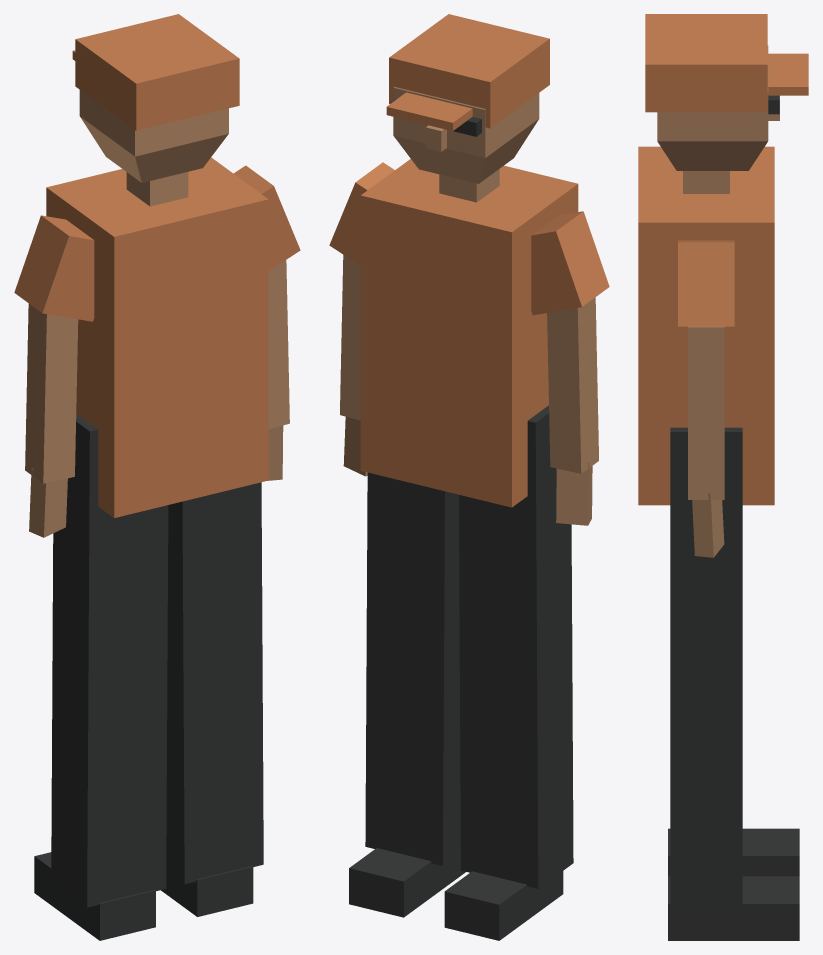
Rendered from pedestrian_09.glb.
The picture shows the model from 3 angles, left to right: view 1: azimuth 30°, elevation 25°; view 2: azimuth 150°, elevation 25°; view 3: azimuth 270°, elevation 25°; orthographic projection. The views are drawn at different scales.
Visible parts, largest first — view 1: pedestrian_09 crowd_trousers, pedestrian_09 crowd_shirt, pedestrian_09 crowd_skin, pedestrian_09 crowd_accessory, pedestrian_09 crowd_rubber; view 2: pedestrian_09 crowd_trousers, pedestrian_09 crowd_shirt, pedestrian_09 crowd_skin, pedestrian_09 crowd_accessory, pedestrian_09 crowd_rubber; view 3: pedestrian_09 crowd_shirt, pedestrian_09 crowd_trousers, pedestrian_09 crowd_skin, pedestrian_09 crowd_accessory, pedestrian_09 crowd_rubber.
Boxes of the visible parts, left/top/right/bottom form: pedestrian_09 crowd_trousers: left=51, top=414, right=263, bottom=907; pedestrian_09 crowd_shirt: left=14, top=157, right=300, bottom=517; pedestrian_09 crowd_skin: left=25, top=90, right=289, bottom=537; pedestrian_09 crowd_accessory: left=72, top=14, right=239, bottom=130; pedestrian_09 crowd_rubber: left=34, top=852, right=253, bottom=940; pedestrian_09 crowd_trousers: left=365, top=405, right=573, bottom=888; pedestrian_09 crowd_shirt: left=329, top=159, right=609, bottom=507; pedestrian_09 crowd_skin: left=340, top=86, right=598, bottom=525; pedestrian_09 crowd_accessory: left=386, top=14, right=549, bottom=130; pedestrian_09 crowd_rubber: left=349, top=98, right=563, bottom=940; pedestrian_09 crowd_shirt: left=638, top=146, right=774, bottom=505; pedestrian_09 crowd_trousers: left=670, top=427, right=742, bottom=911; pedestrian_09 crowd_skin: left=657, top=45, right=779, bottom=557; pedestrian_09 crowd_accessory: left=645, top=14, right=808, bottom=112; pedestrian_09 crowd_rubber: left=668, top=95, right=799, bottom=940.
Size of the model in its own units: 0.5717 by 1.82 by 0.325.
